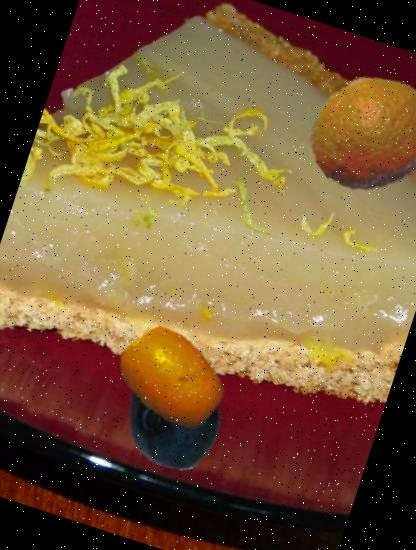Blueberry: (113, 359, 238, 484)
Kumquats: (100, 307, 242, 449)
Mandarine: (293, 53, 416, 214)
